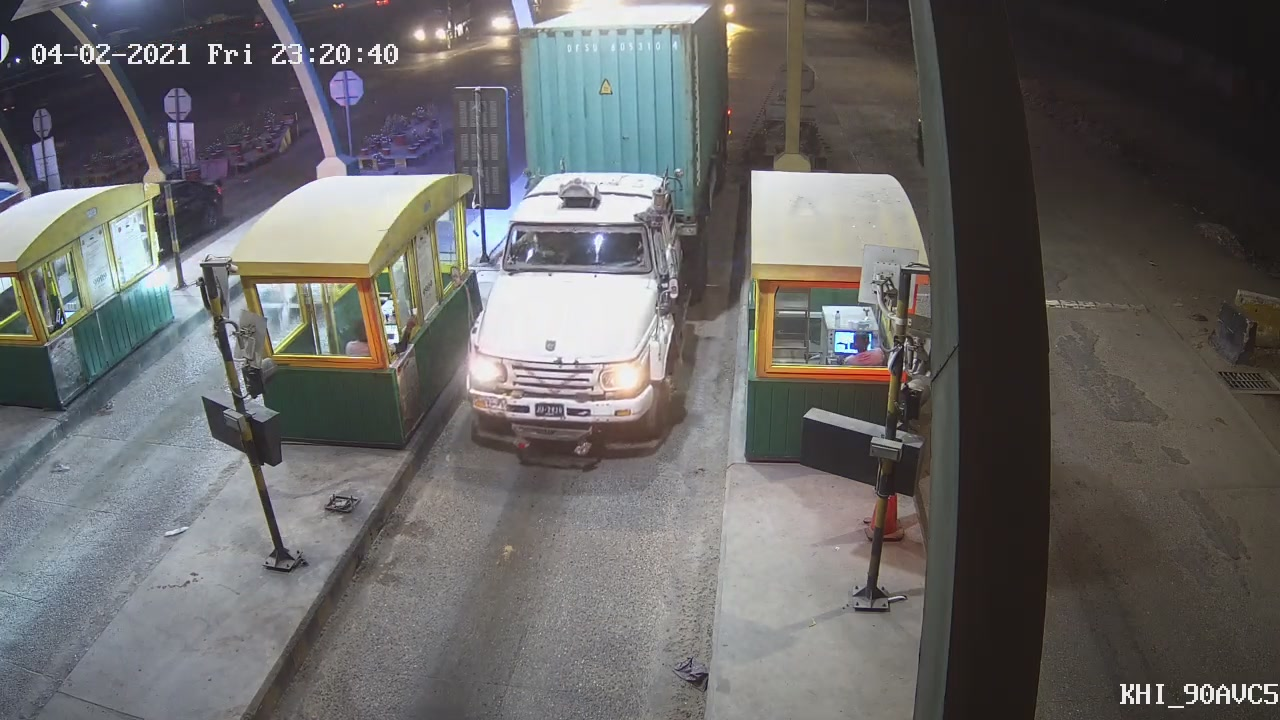F6: (450, 1, 725, 474)
